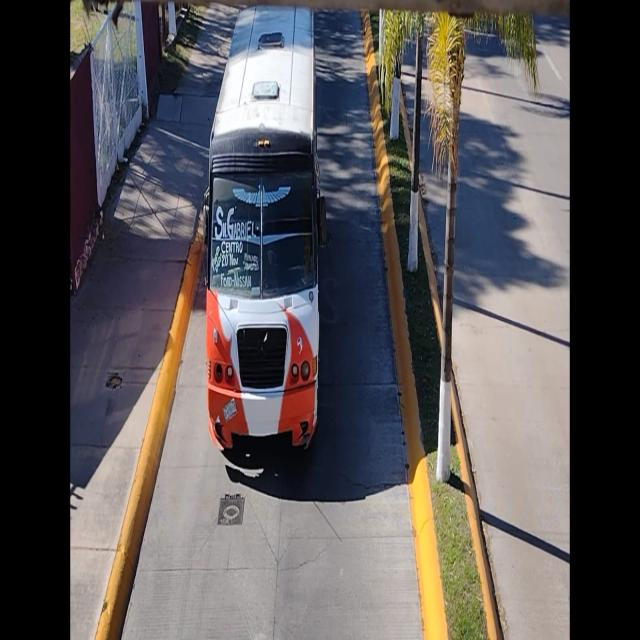Autobus: (202, 0, 326, 478)
